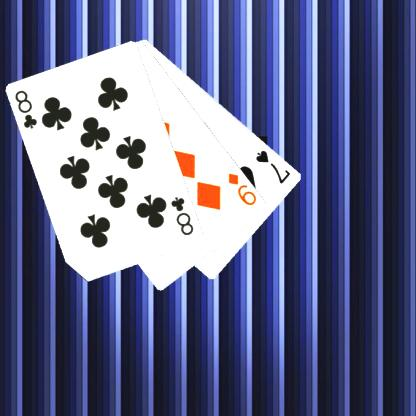7S: (252, 148, 292, 186)
8C: (12, 87, 40, 131), (168, 194, 195, 237)
9D: (225, 170, 258, 207)
